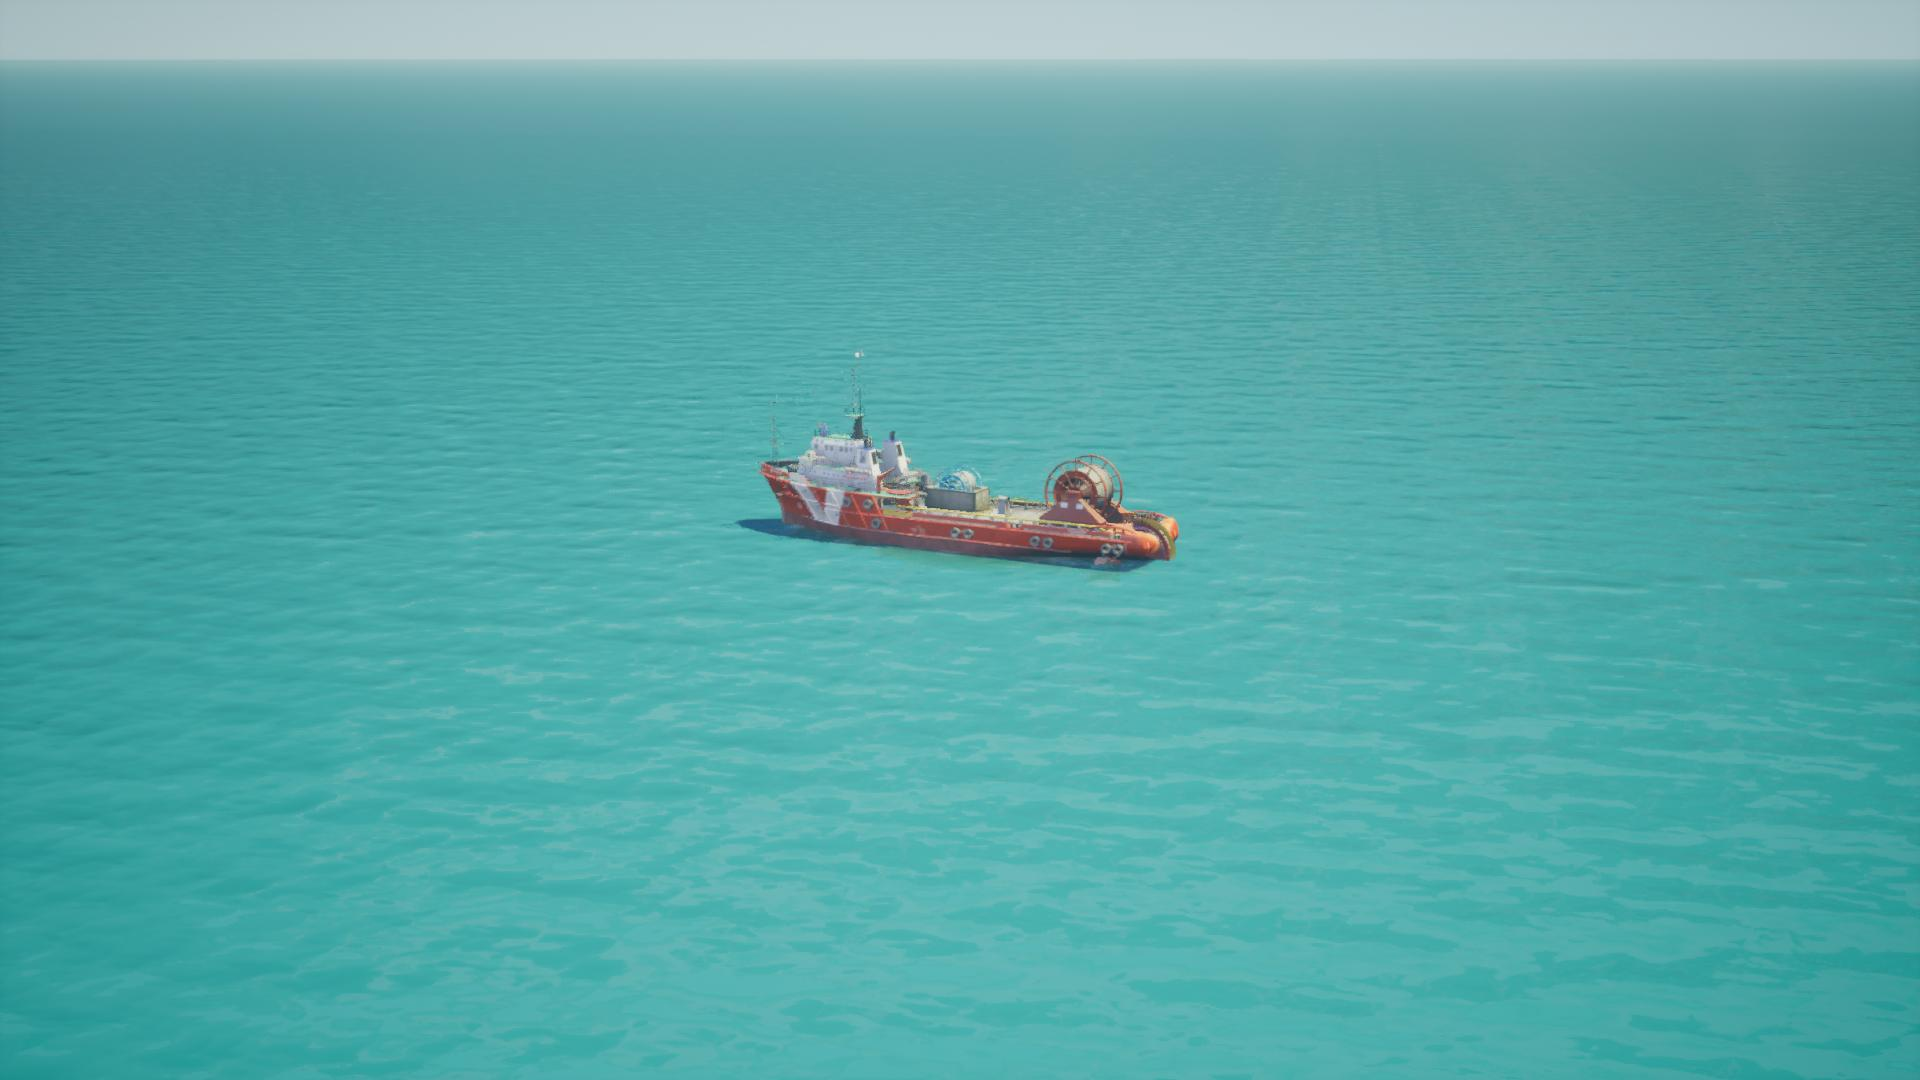Tug Boat: (740, 357, 1187, 580)
